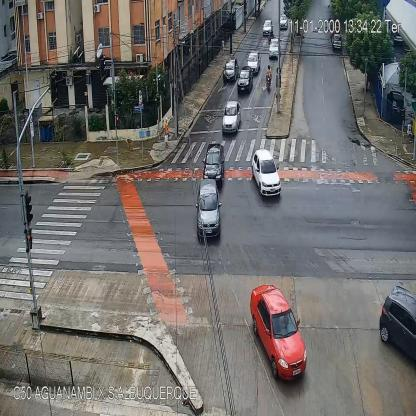car: (250, 286, 307, 380), (379, 289, 416, 364), (196, 179, 222, 241), (251, 150, 281, 197), (202, 143, 225, 184), (222, 102, 240, 132), (223, 59, 238, 82), (238, 67, 251, 92), (269, 38, 281, 61), (247, 53, 259, 73), (264, 19, 272, 36), (279, 13, 287, 29), (332, 35, 340, 49)
motorbike: (266, 64, 271, 92)
person: (164, 116, 169, 149), (220, 37, 225, 55)
